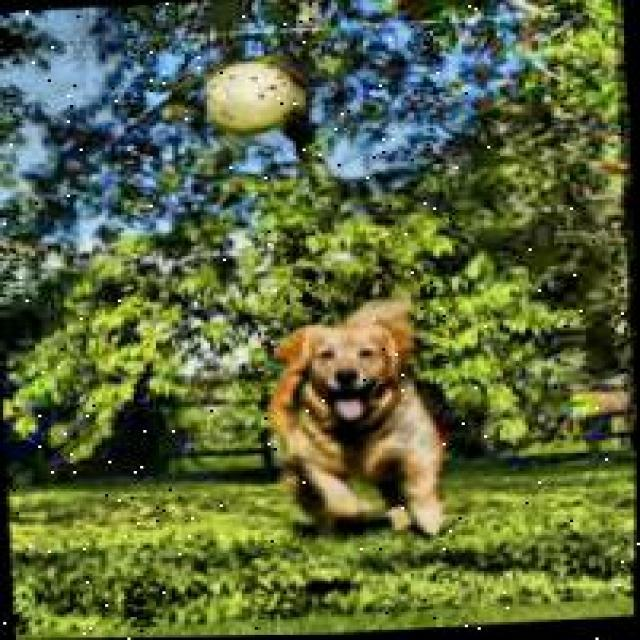tennis-ball: (204, 60, 309, 152)
